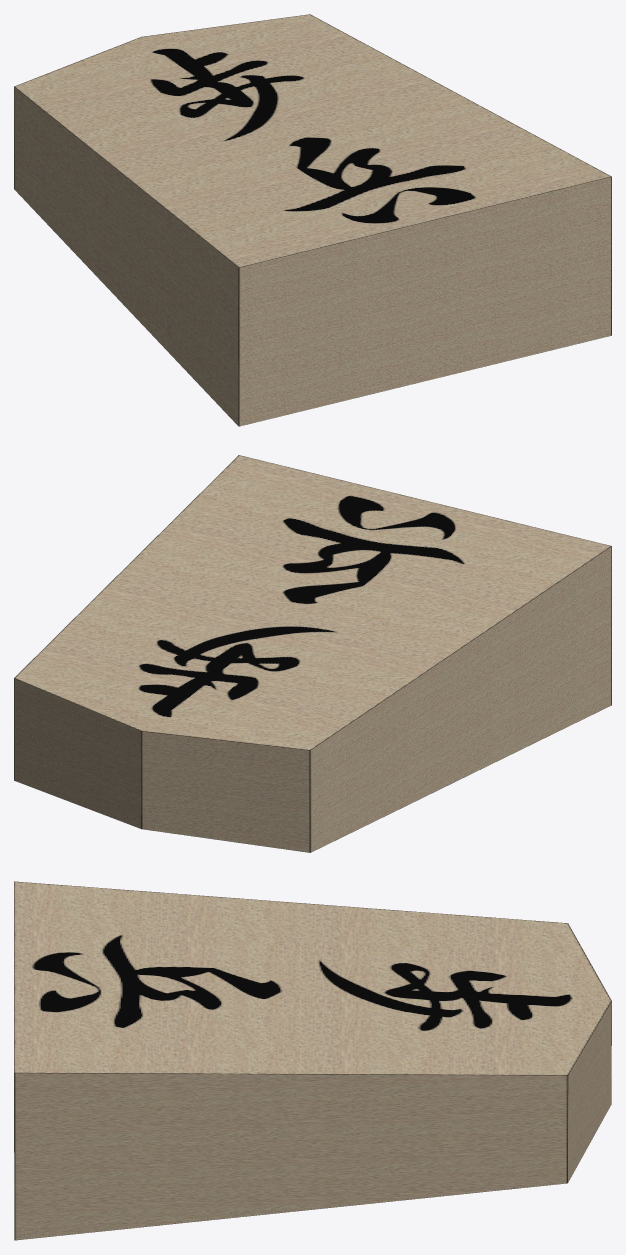
The model's file is 08_Fuhyo.fbx.
The picture shows the model from 3 angles, top to bottom: view 1: azimuth 30°, elevation 25°; view 2: azimuth 150°, elevation 25°; view 3: azimuth 270°, elevation 25°; orthographic projection. The views are drawn at different scales.
Parts seen in each view (by area): view 1: 08_Fuhyo; view 2: 08_Fuhyo; view 3: 08_Fuhyo.
Part boxes in pixels (x1=…): 08_Fuhyo: x1=14, y1=14, x2=611, y2=426; 08_Fuhyo: x1=14, y1=455, x2=611, y2=852; 08_Fuhyo: x1=14, y1=881, x2=611, y2=1240.
Size of the model in its own units: 0.5325 by 0.7024 by 0.2171.
1 material, 1 textured.
